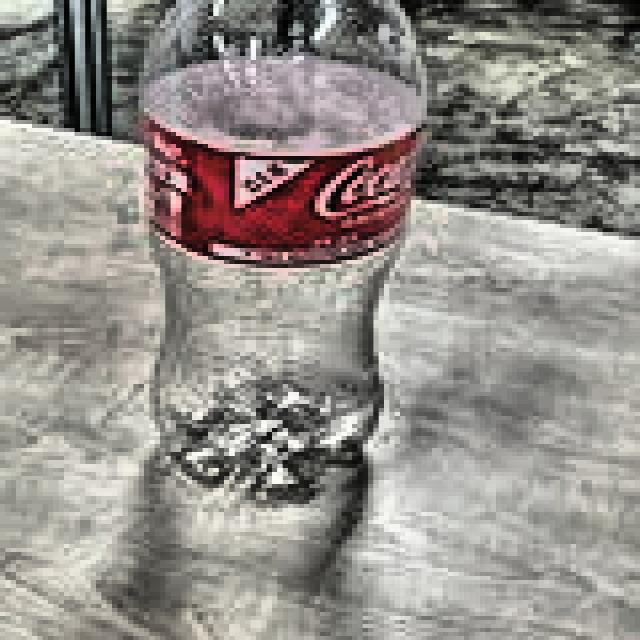plastic: (133, 0, 432, 504)
